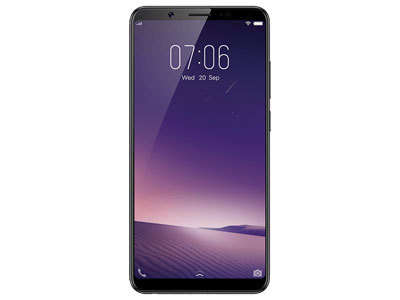mobile: (117, 5, 289, 291)
